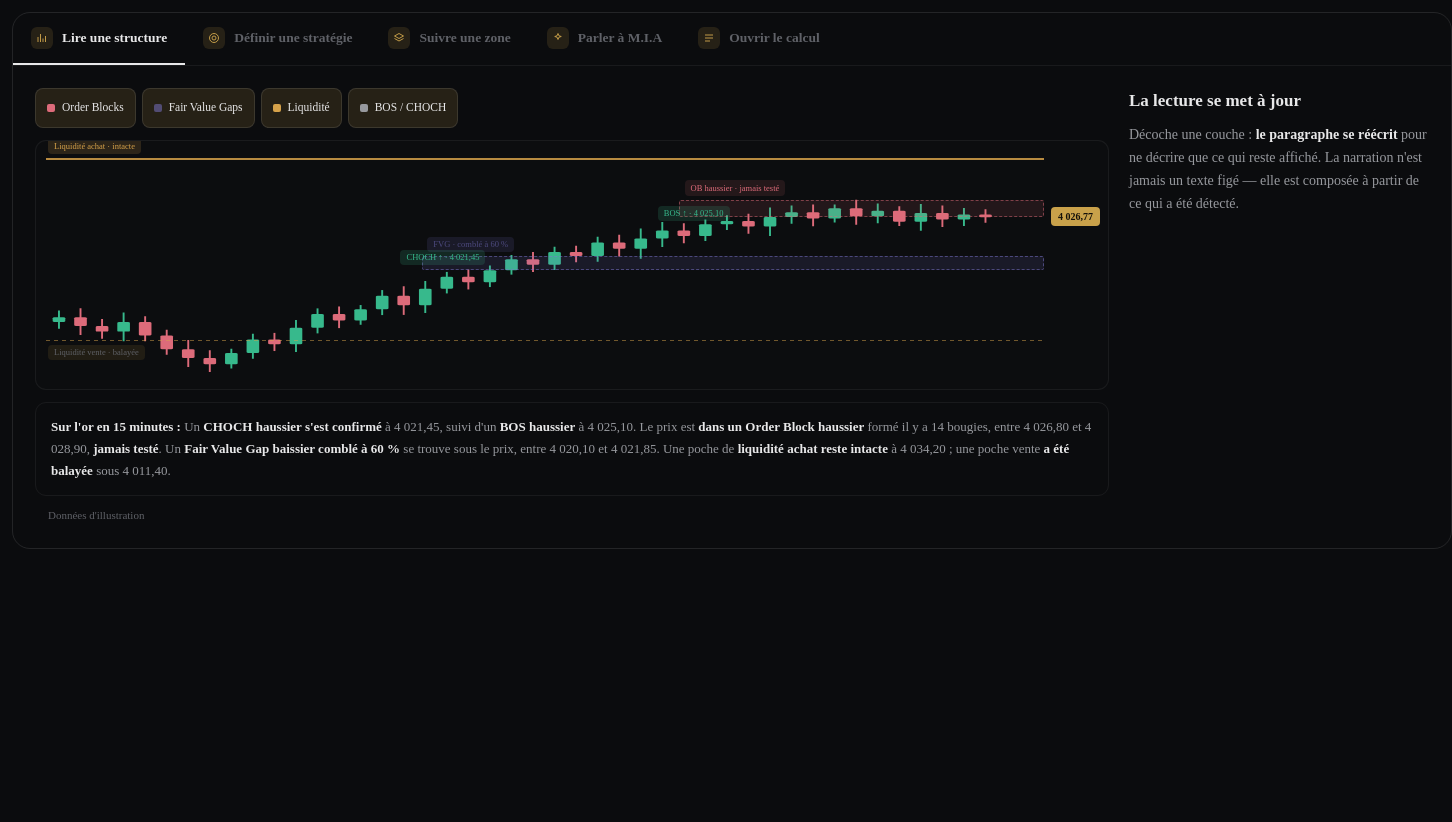
Test case: LP-1 home — the non-M.I.A demos run offline › the zones demo draws each zone in the structure tab visual language
What coordinates should you click on to do the following:
click the tab "Suivre une zone"
I would click on:
 (450, 39)
Its box is 370,13 -> 529,65.
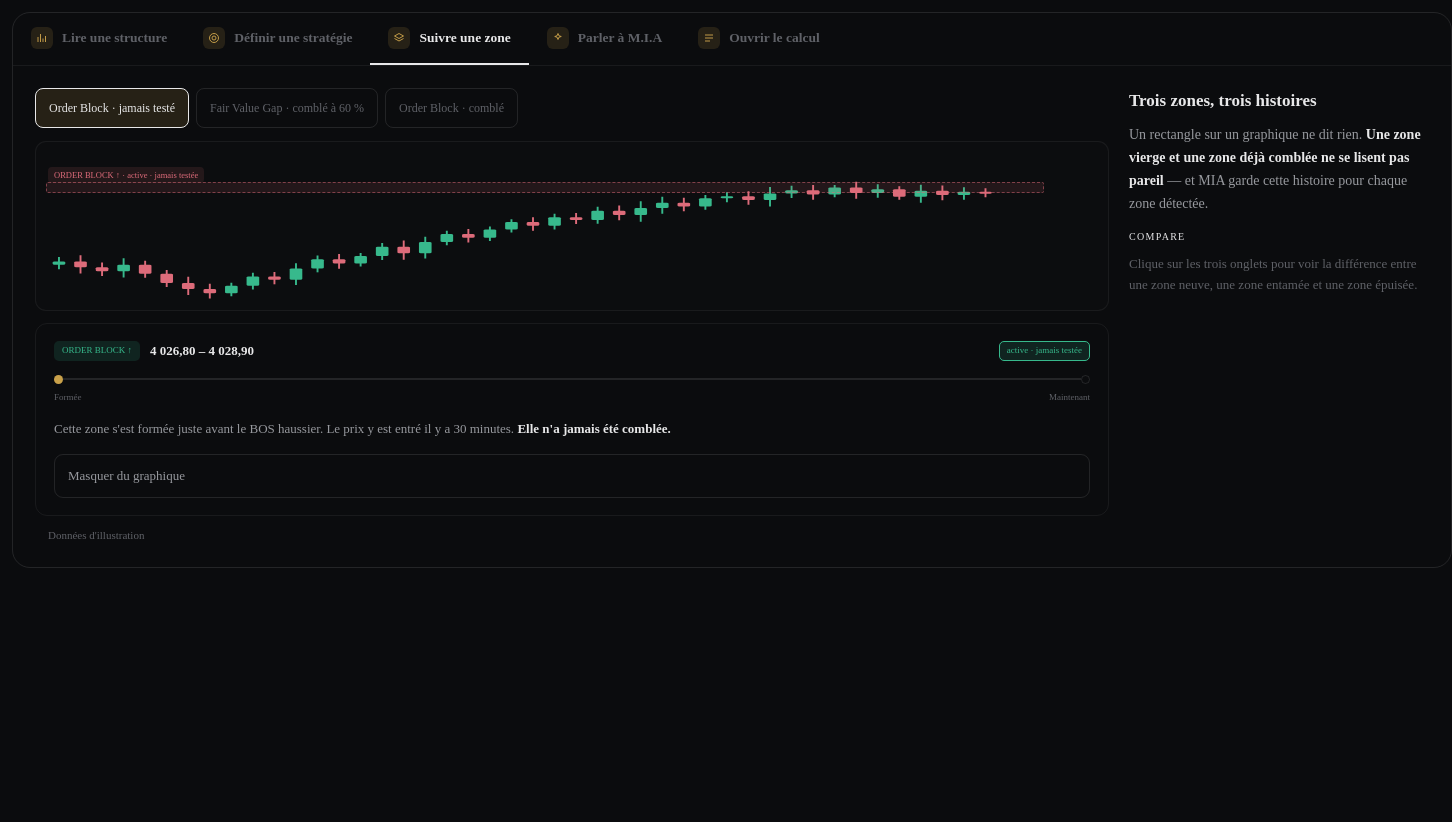
expect the text "ORDER BLOCK ↑ · active · jamais testée" is shown: met, box 48,167 -> 204,183
# zone 2 — a Fair Value Gap eaten at 60 %
What coordinates should you click on to do the following:
click the tab "Fair Value Gap · comblé à 60 %"
I would click on:
 (287, 108)
Its box is 196,88 -> 378,128.
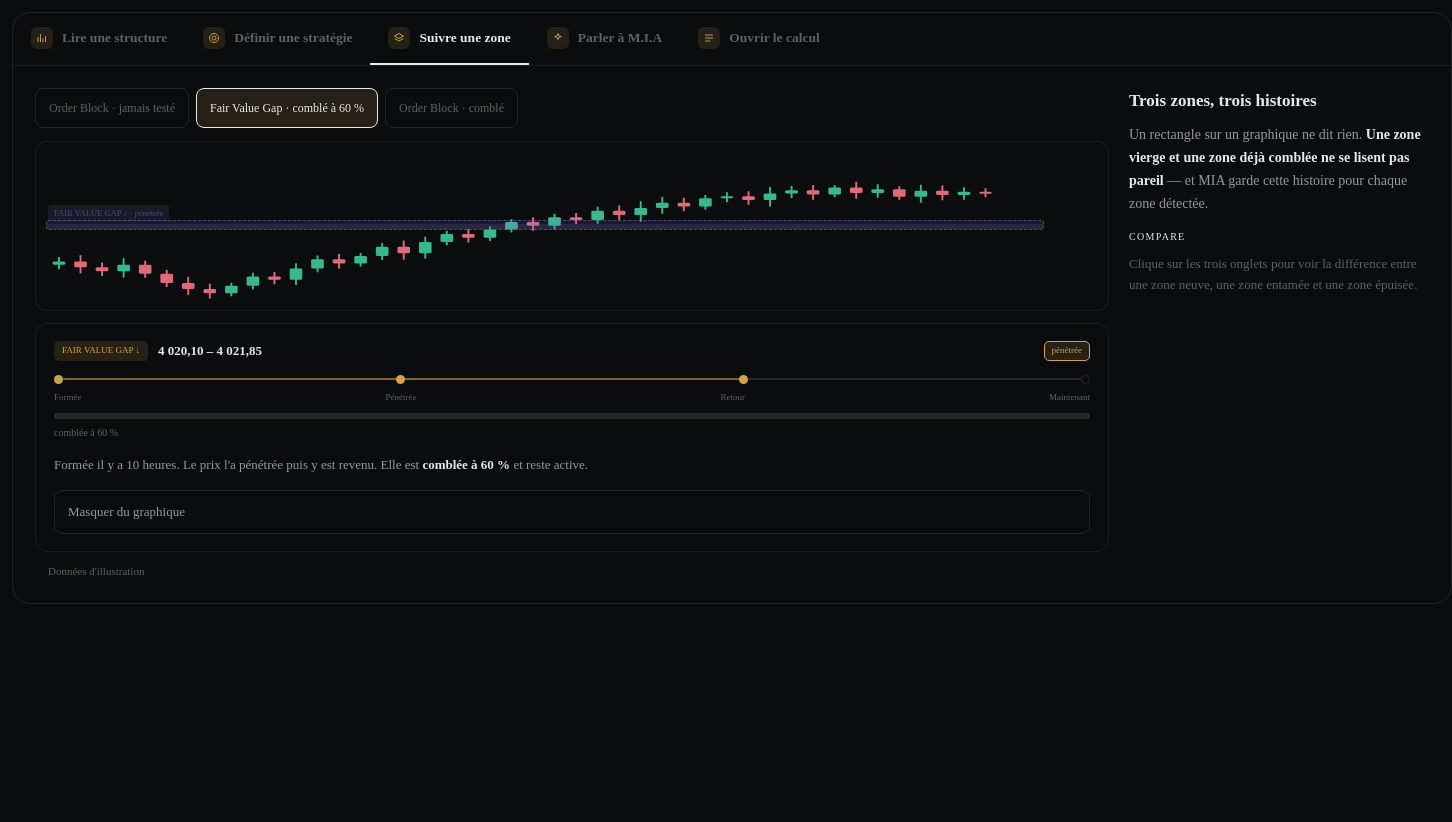
expect the text "FAIR VALUE GAP ↓ · pénétrée" is shown: met, box 48,205 -> 170,221
# zone 3 — a spent Order Block
What coordinates should you click on to do the following:
click the tab "Order Block · comblé"
I would click on:
 (452, 108)
Its box is 385,88 -> 518,128.
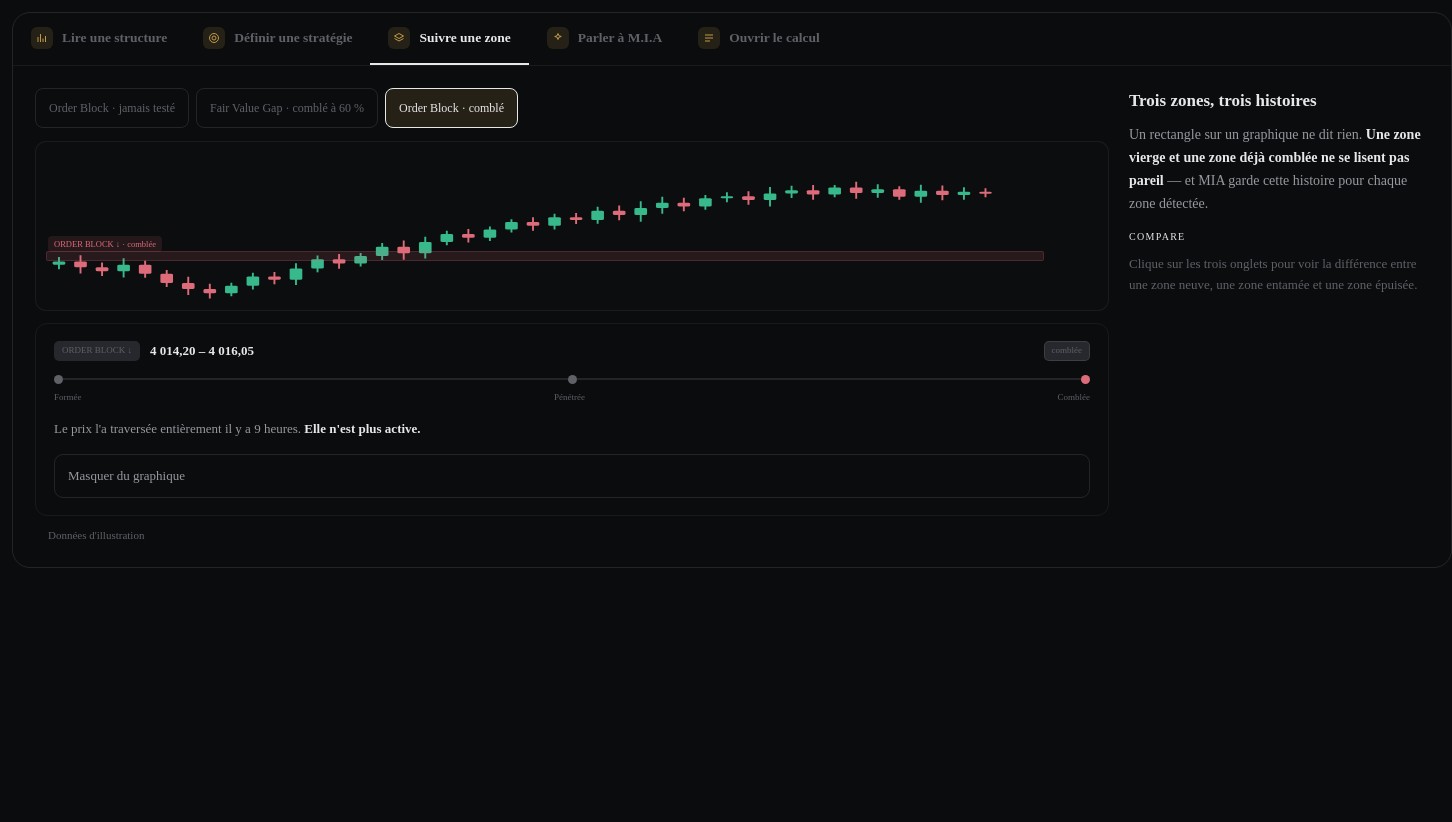
expect the text "ORDER BLOCK ↓ · comblée" is shown: met, box 48,236 -> 162,252
What coordinates should you click on to do the following:
click the button "Masquer du graphique"
I would click on:
 (126, 476)
Its box is 54,454 -> 1090,498.
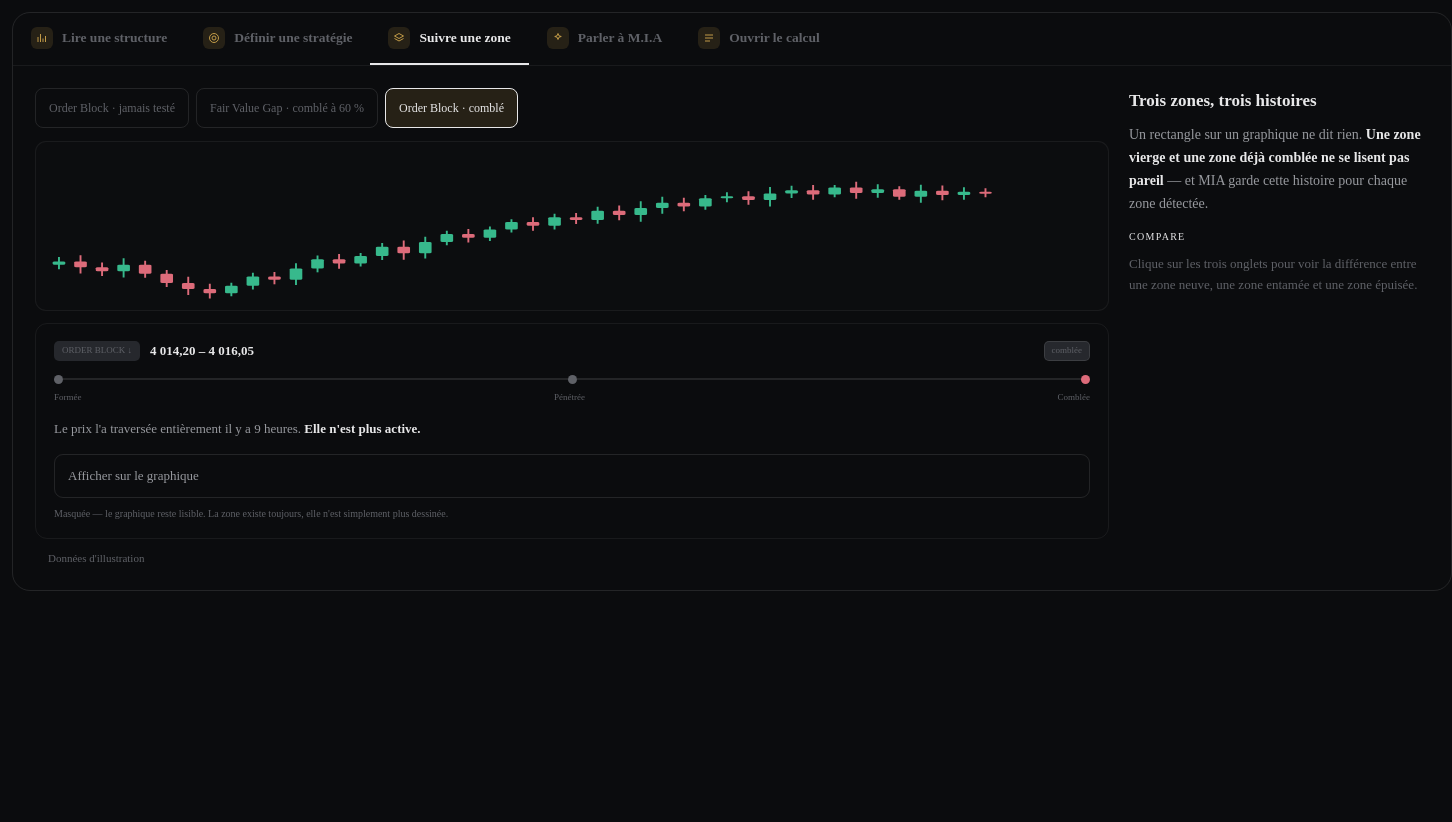
expect the text "Elle n'est plus active." is shown: met, box 304,421 -> 421,436
expect the text "ORDER BLOCK ↓ · comblée" is gone: met
